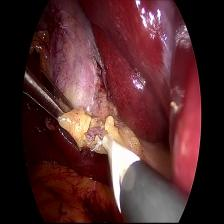Grasper: (22, 56, 76, 129)
Hook: (89, 134, 139, 196)
